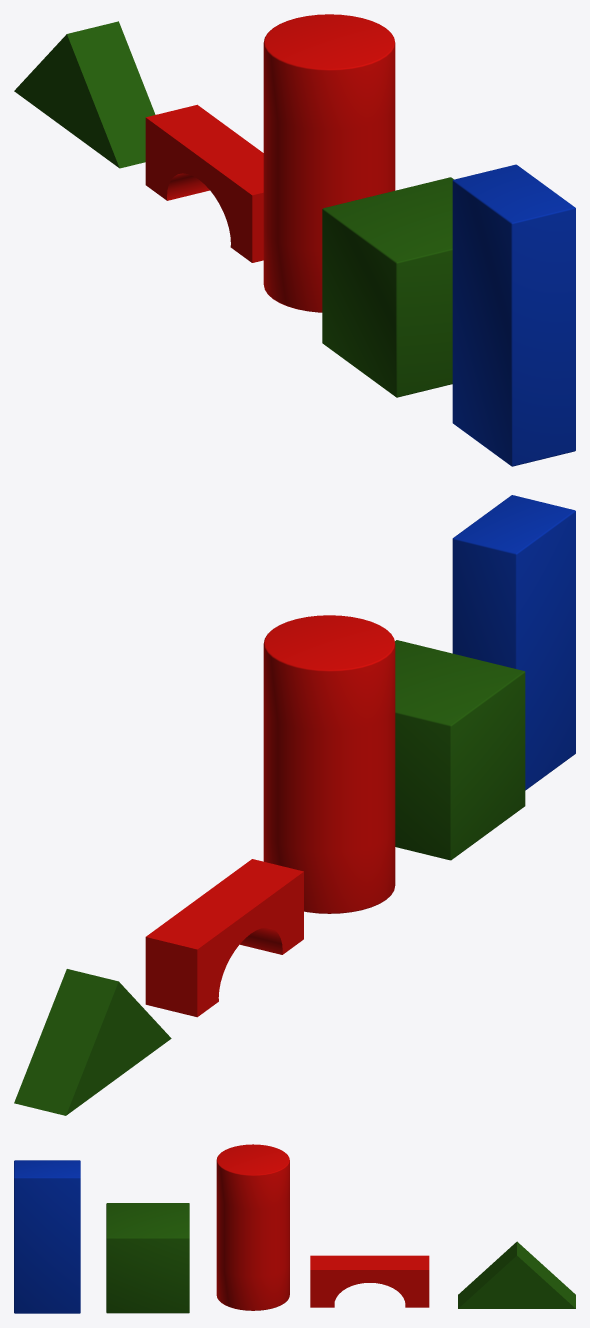
Rendered from Builing Blocks Cinema.fbx.
3 views of the same model, one above another, from view 1: azimuth 30°, elevation 25°; view 2: azimuth 150°, elevation 25°; view 3: azimuth 270°, elevation 25° (orthographic). The views are drawn at different scales.
Visible parts, largest first — view 1: Quader, Cylinder, Cube, Dach, Brücke; view 2: Cylinder, Quader, Cube, Brücke, Dach; view 3: Cylinder, Quader, Cube, Brücke, Dach.
Boxes of the visible parts, x1,y1,x2,y2 form: Quader: [452, 164, 575, 466]; Cylinder: [263, 14, 395, 312]; Cube: [322, 177, 453, 397]; Dach: [14, 21, 155, 168]; Brücke: [145, 104, 263, 262]; Cylinder: [263, 615, 395, 913]; Quader: [452, 495, 575, 790]; Cube: [395, 640, 525, 860]; Brücke: [145, 859, 303, 1017]; Dach: [14, 969, 171, 1115]; Cylinder: [216, 1144, 289, 1310]; Quader: [14, 1160, 80, 1313]; Cube: [106, 1203, 189, 1313]; Brücke: [310, 1255, 429, 1307]; Dach: [458, 1241, 575, 1308].
Size of the model in its own units: 50 by 96.17 by 337.
